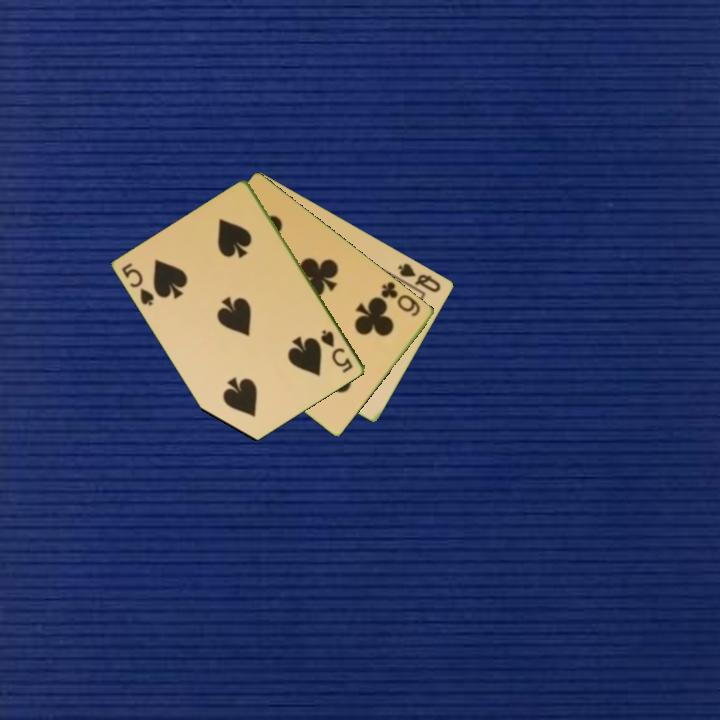5s: (317, 326, 356, 376), (118, 259, 157, 309)
6c: (378, 278, 424, 320)
Qs: (395, 260, 444, 295)
